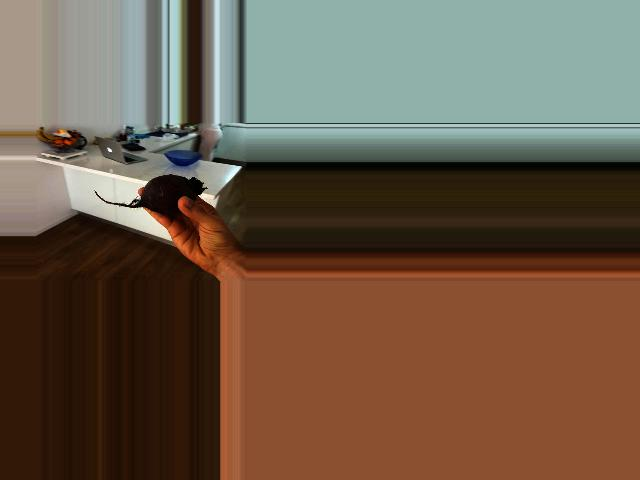beet: (94, 175, 205, 214)
